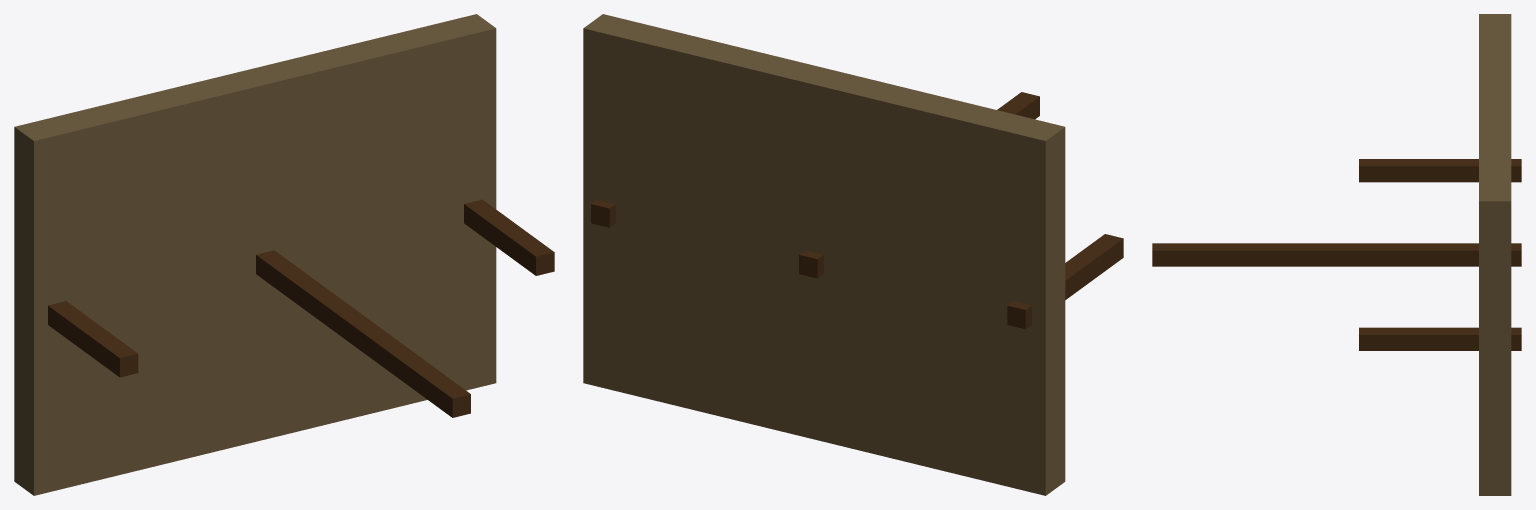
The model's file is SM_RoadCampTent.obj.
The picture shows the model from 3 angles, left to right: view 1: azimuth 30°, elevation 25°; view 2: azimuth 150°, elevation 25°; view 3: azimuth 270°, elevation 25°; orthographic projection. The views are drawn at different scales.
Visible parts, largest first — view 1: SM_RoadCampTent; view 2: SM_RoadCampTent; view 3: SM_RoadCampTent.
Boxes of the visible parts, x1,y1,x2,y2 form: SM_RoadCampTent: (14, 14, 554, 495); SM_RoadCampTent: (583, 14, 1123, 495); SM_RoadCampTent: (1152, 14, 1521, 495).
Size of the model in its own units: 300 by 220 by 250.
